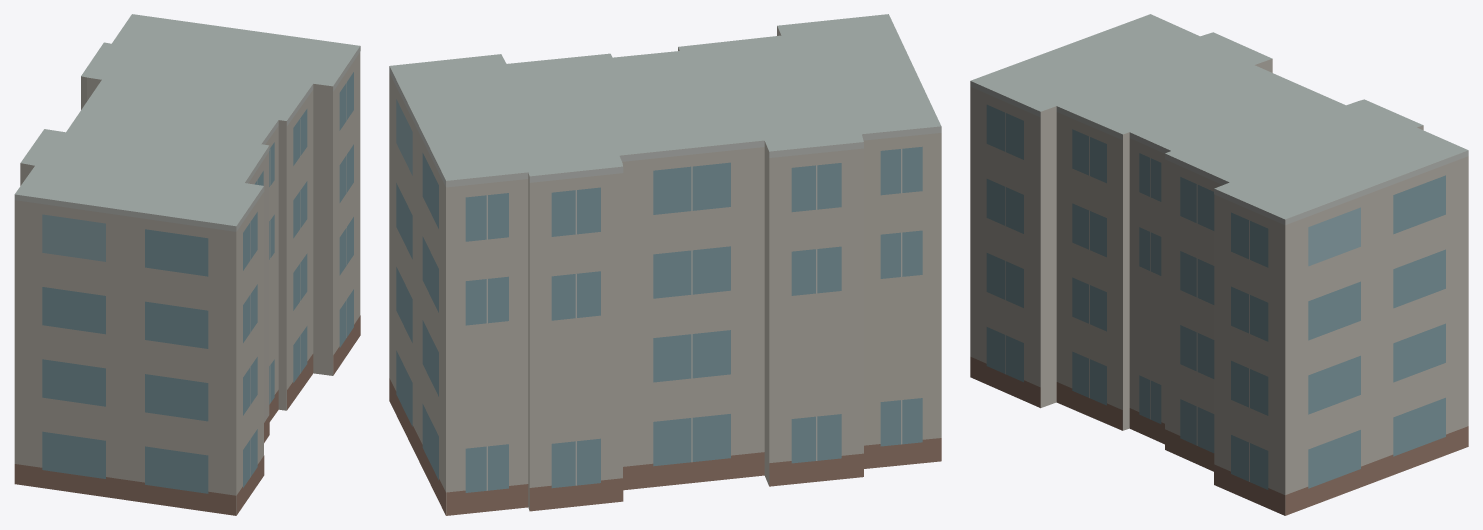
Rendered from survey-upis-32800687.glb.
3 views of the same model, side by side, from view 1: azimuth 30°, elevation 25°; view 2: azimuth 150°, elevation 25°; view 3: azimuth 270°, elevation 25° (orthographic). The views are drawn at different scales.
Parts seen in each view (by area): view 1: survey-upis-32800687.tmp; view 2: survey-upis-32800687.tmp; view 3: survey-upis-32800687.tmp.
Boxes of the visible parts, x1,y1,x2,y2 form: survey-upis-32800687.tmp: (14,14,360,515); survey-upis-32800687.tmp: (389,14,941,515); survey-upis-32800687.tmp: (970,14,1468,515).
Bounding box in the file's own units: 18.67 × 12.55 × 19.14.
